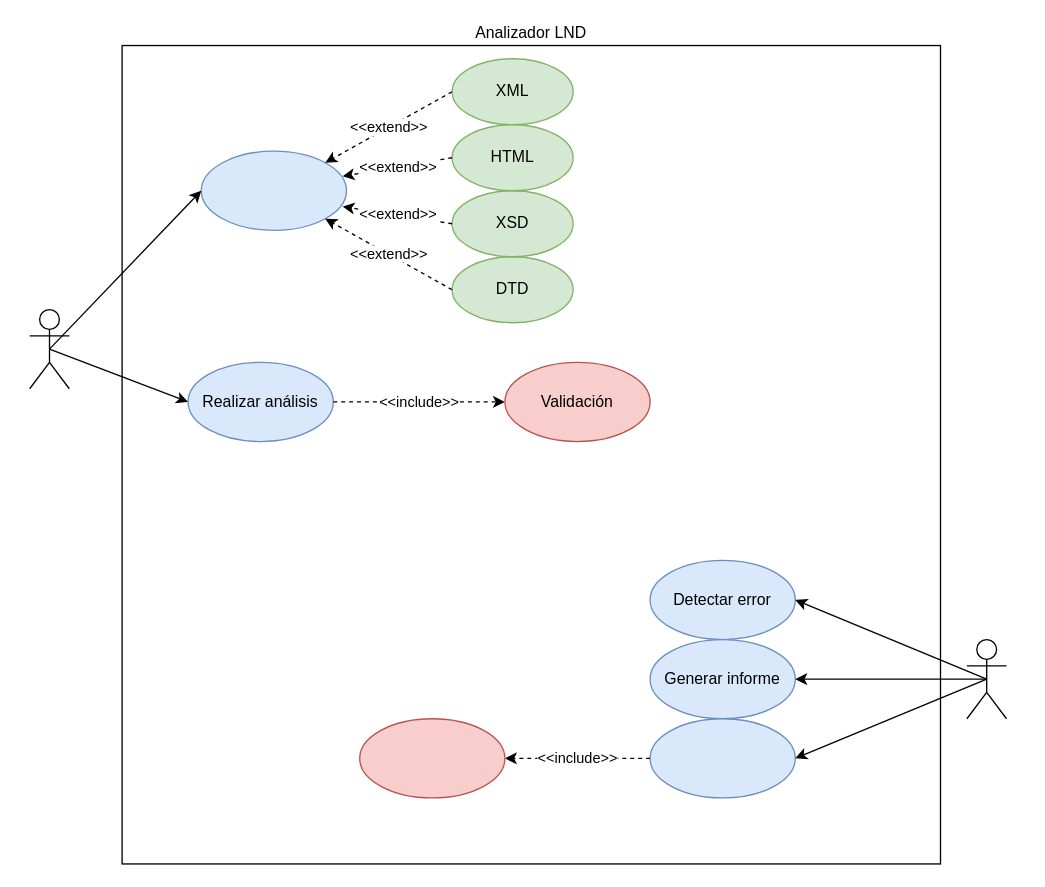
The diagram is 1045 pixels wide and 887 high, and some of its shapes have lost their labels. The shapes that lost their labels are listed below. From the top down, each one's box as (x1, y1, x2, y2) in pixels, then its label:
(200, 150, 346, 230): Leer ficheros
(28, 308, 69, 389): Usuario
(966, 638, 1006, 719): Aplicación
(358, 717, 505, 798): Verificación
(649, 717, 795, 798): Crear .ZIP
